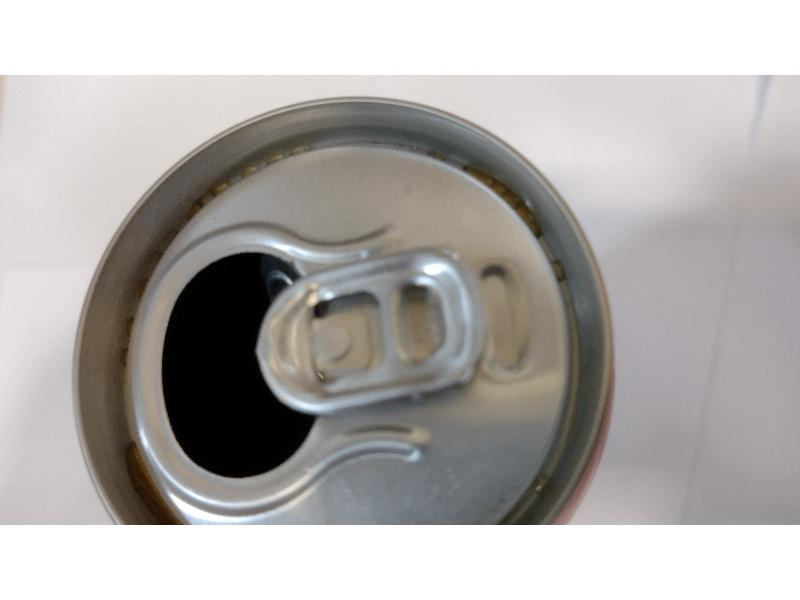can: (77, 92, 618, 528)
